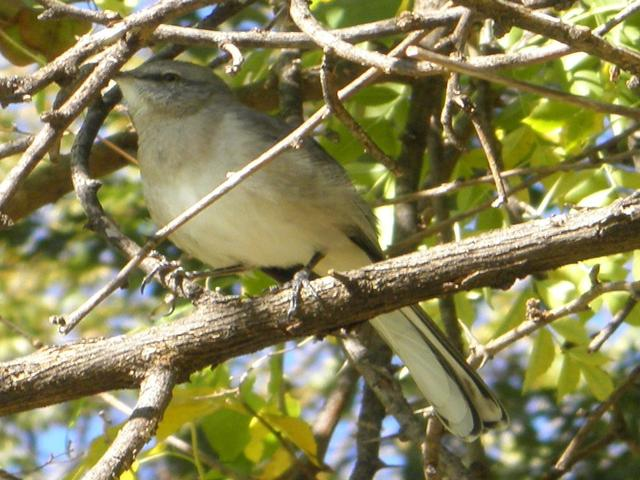bird: (80, 53, 573, 472)
